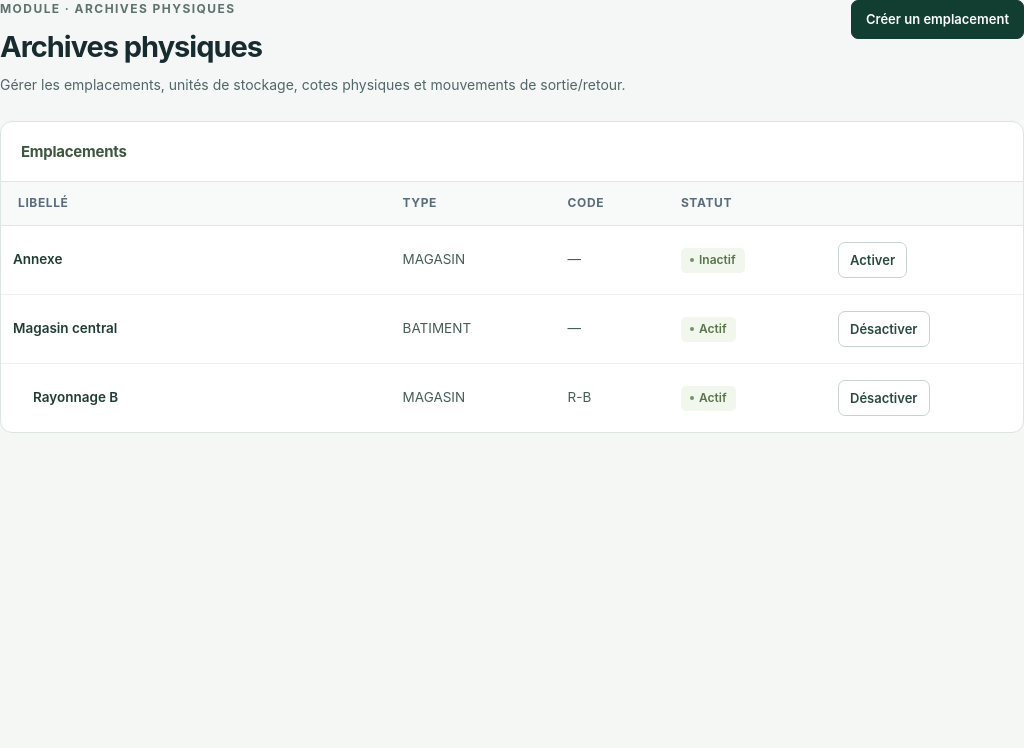
Test case: un refus à la désactivation d’une unité est dit de la même façon
Step 1. Click the button "Magasin central" → (108, 329), box [13,318,203,340]
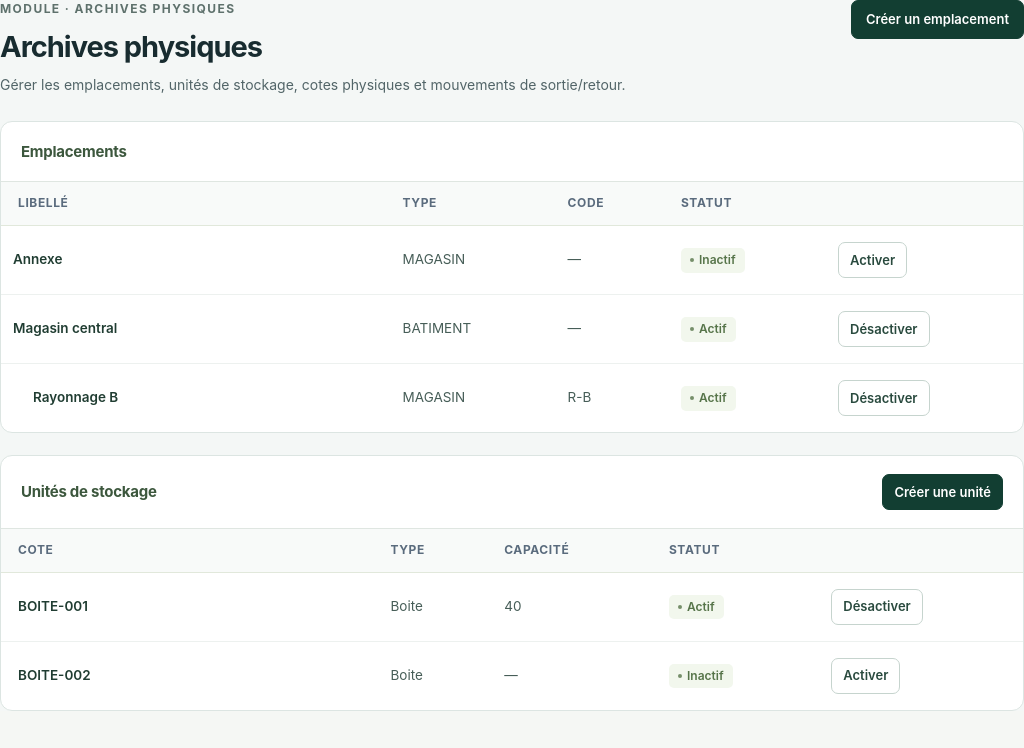
Step 2. Click the button "Désactiver" in the row of "40" → (877, 607), box [831,589,923,625]
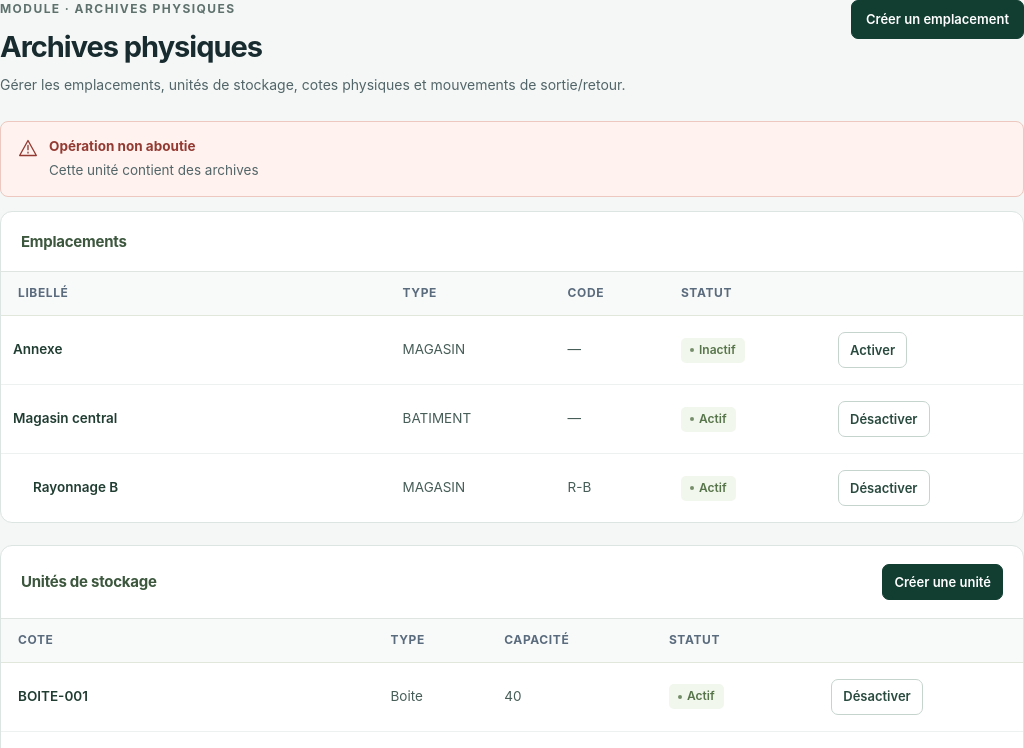
Check: the text "Cette unité contient des archives" is shown, box [49,158,259,182]
